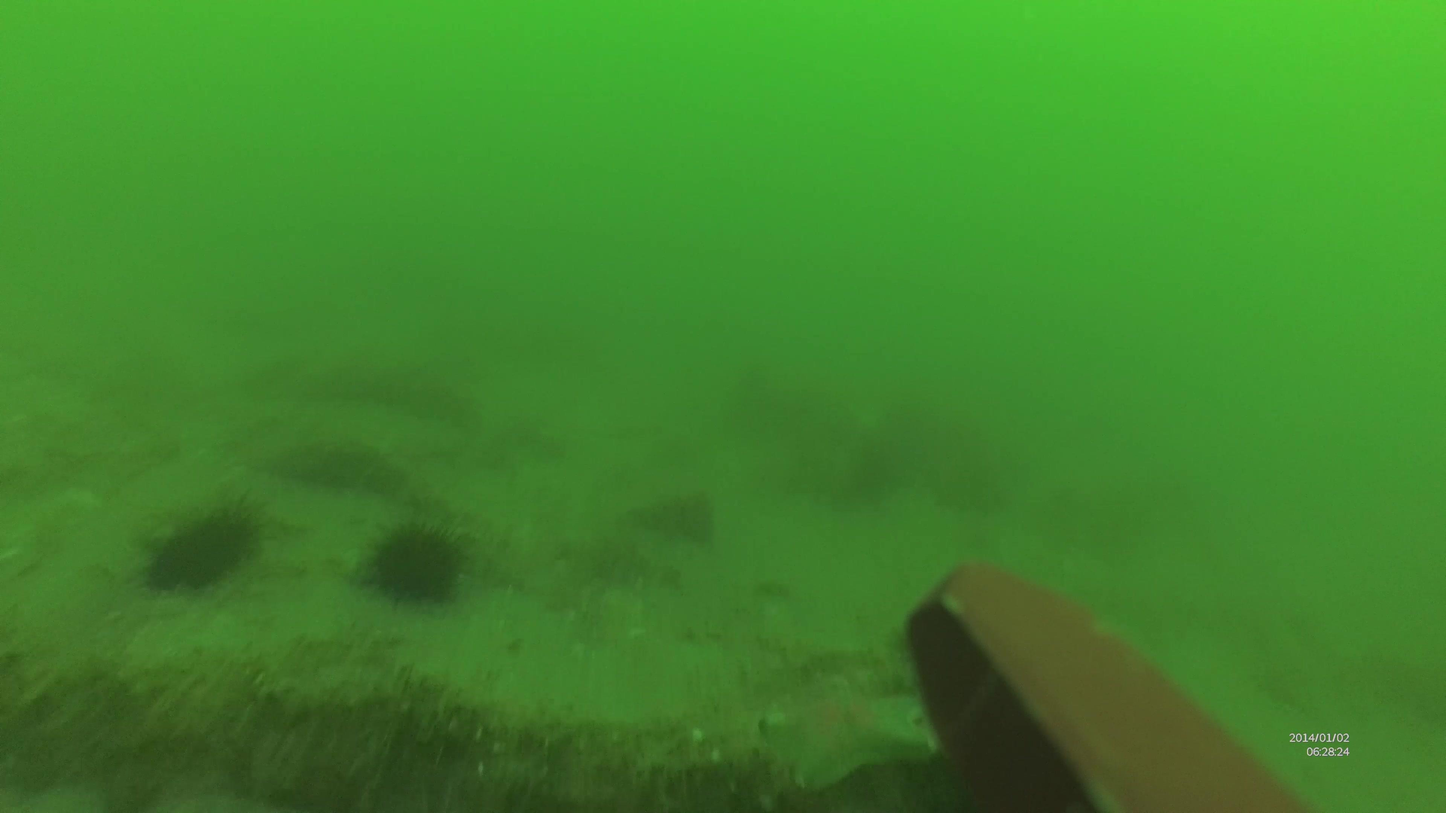starfish: (147, 496, 266, 600), (370, 521, 466, 609)
